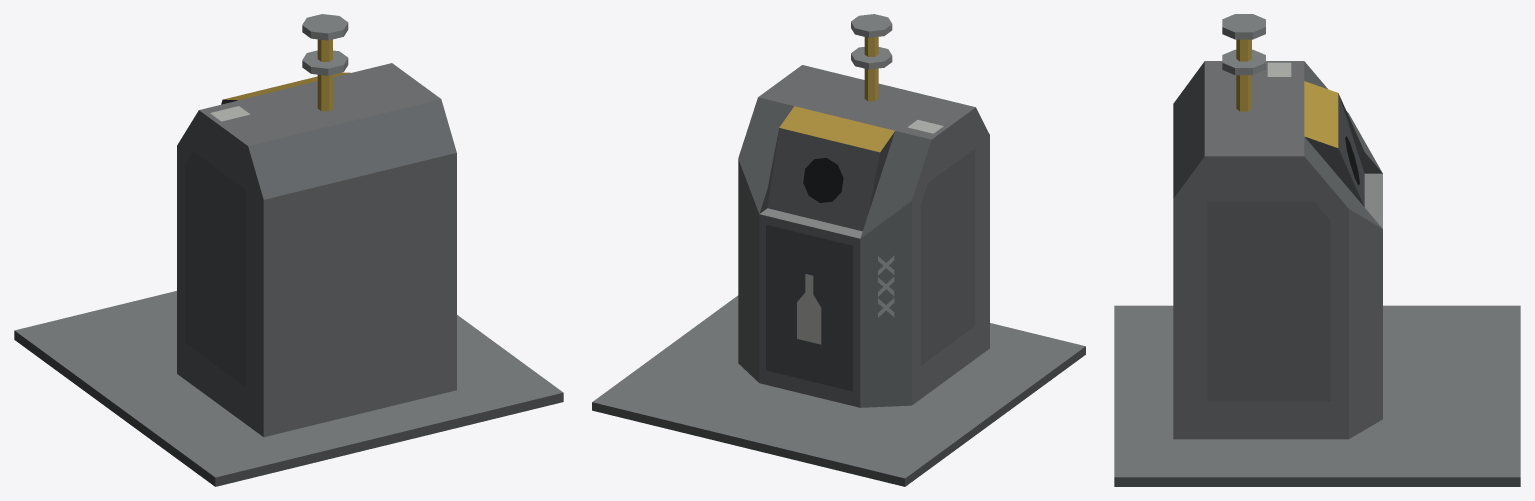
The model's file is container-glas.glb.
The picture shows the model from 3 angles, left to right: view 1: azimuth 30°, elevation 25°; view 2: azimuth 150°, elevation 25°; view 3: azimuth 270°, elevation 25°; orthographic projection. The views are drawn at different scales.
Parts seen in each view (by area): view 1: container-glas; view 2: container-glas; view 3: container-glas.
Boxes of the visible parts, <box> form: container-glas: <box>14,14,563,486</box>; container-glas: <box>592,14,1085,486</box>; container-glas: <box>1114,14,1520,486</box>.
Size of the model in its own units: 1.55 by 1.59 by 1.55.
